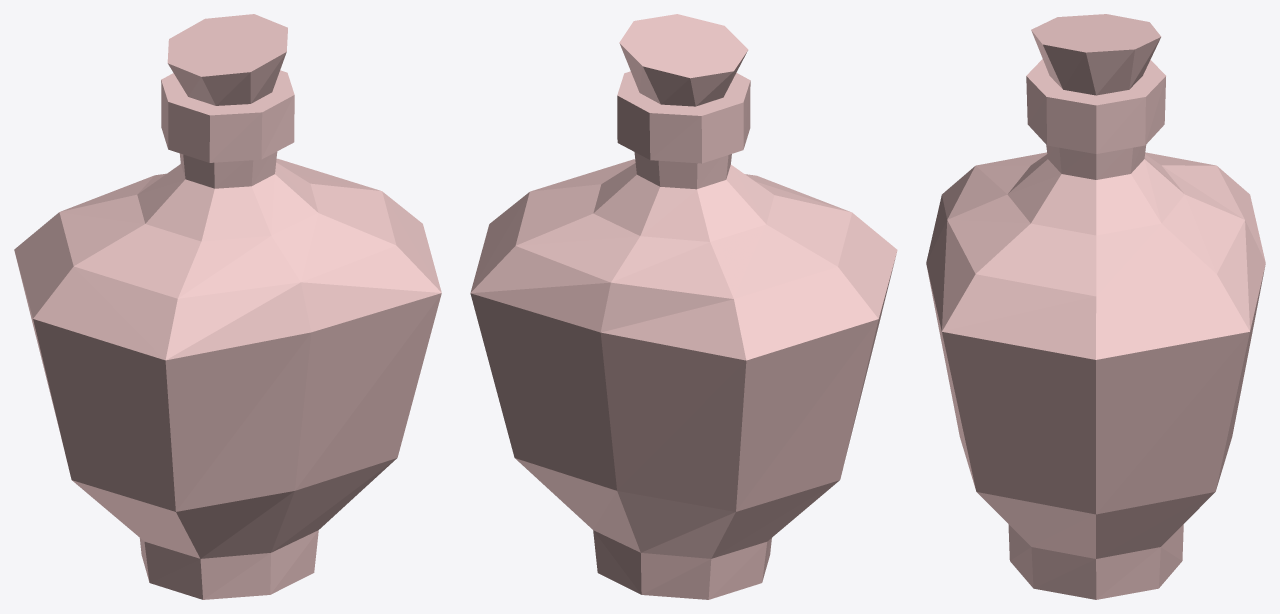
The model's file is SM_Item_Bottle_03.glb.
3 renders of one model, left to right at view 1: azimuth 30°, elevation 25°; view 2: azimuth 150°, elevation 25°; view 3: azimuth 270°, elevation 25°, orthographic.
Parts seen in each view (by area): view 1: SM_Item_Bottle_03_00; view 2: SM_Item_Bottle_03_00; view 3: SM_Item_Bottle_03_00.
Part boxes in pixels (bbox=[...]): SM_Item_Bottle_03_00: bbox=[14, 14, 441, 599]; SM_Item_Bottle_03_00: bbox=[470, 14, 897, 599]; SM_Item_Bottle_03_00: bbox=[926, 14, 1265, 599].
Bounding box in the file's own units: 0.1619 × 0.2089 × 0.12.
Materials: 1 (1 with a texture image).
